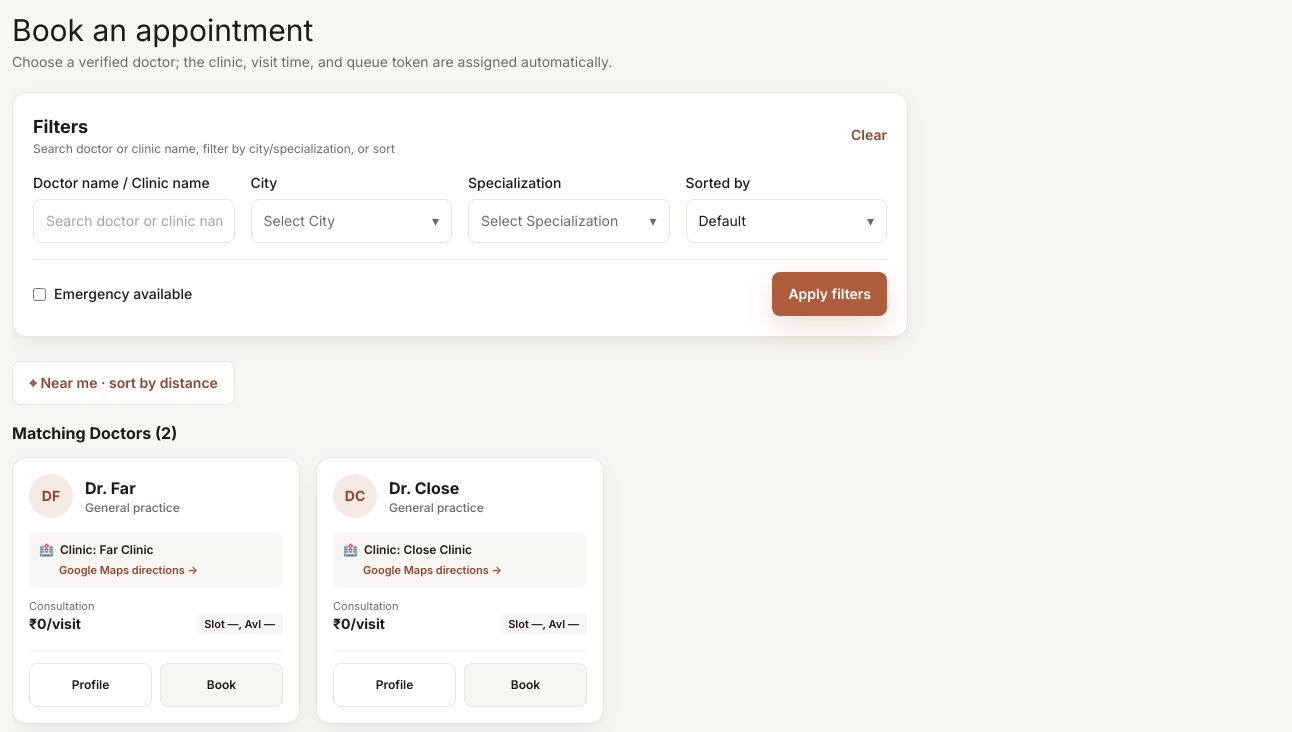
Booking › shows Near me on the booking search and sorts mapped primary clinics by distance
The image size is (1292, 732).
Click the button "⌖ Near me · sort by distance". click: (123, 383)
box: x1=12 y1=361 x2=235 y2=405
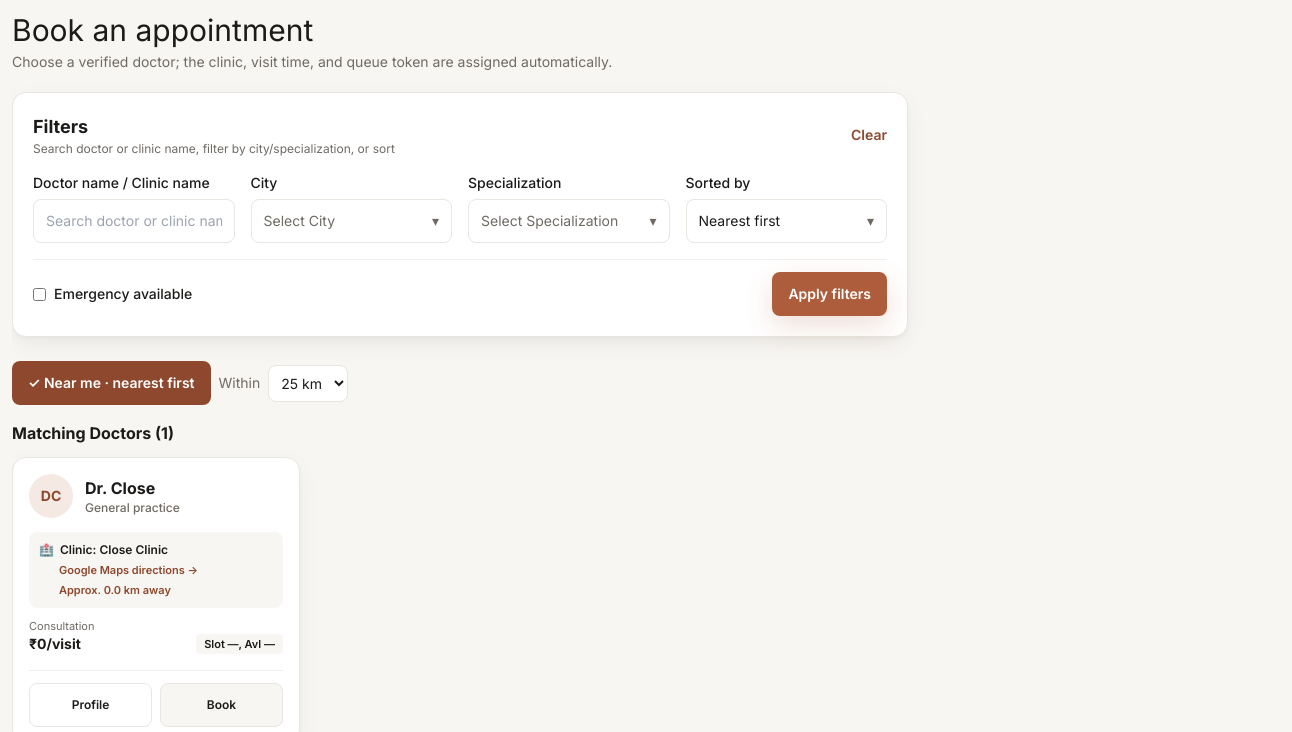
Check: the heading "Matching Doctors (1)" is shown, box x1=12 y1=421 x2=174 y2=445
Check: the heading "Dr. Far" is gone
Check: the text "Approx. 0.0 km away" is shown, box x1=59 y1=583 x2=171 y2=597
Select "50 km" in the dropdown named "Nearby radius". click: (308, 383)
box: x1=268 y1=364 x2=348 y2=402
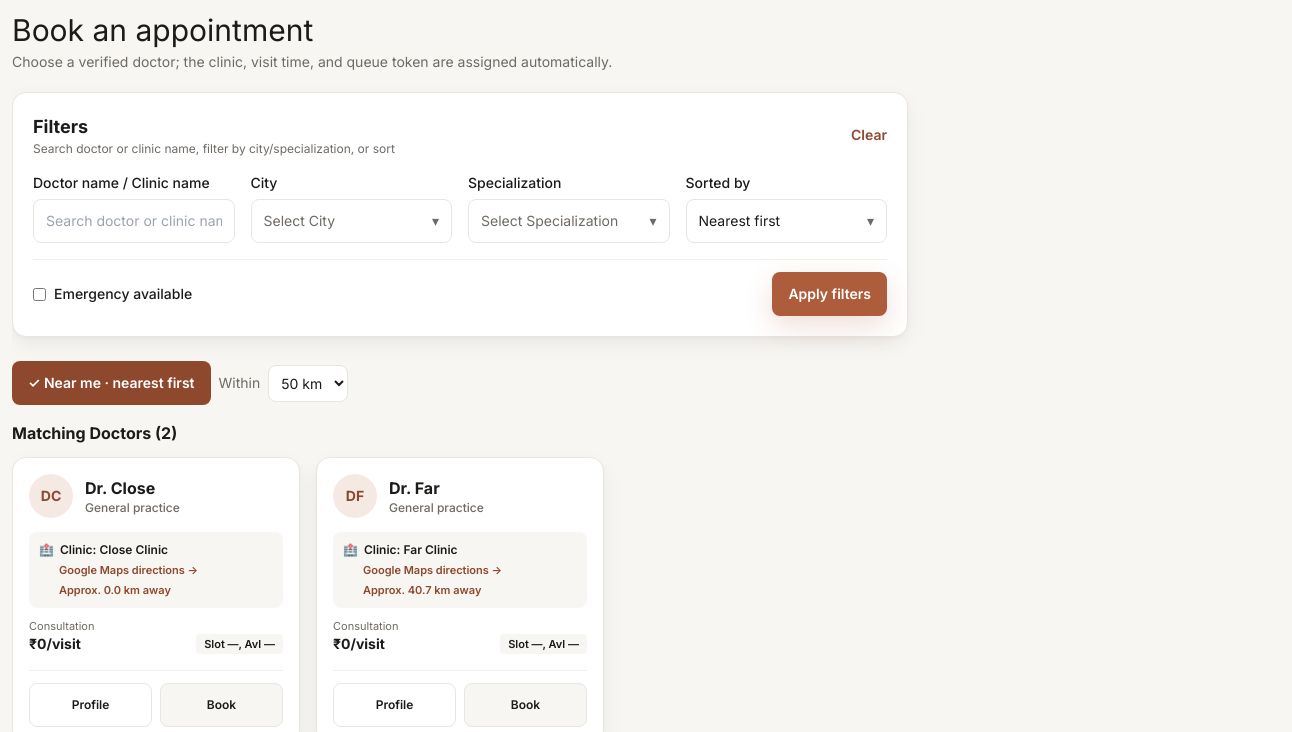
Check: the heading "Dr. Close" is shown, box x1=85 y1=478 x2=155 y2=498
Check: the heading "Dr. Far" is shown, box x1=389 y1=478 x2=440 y2=498
